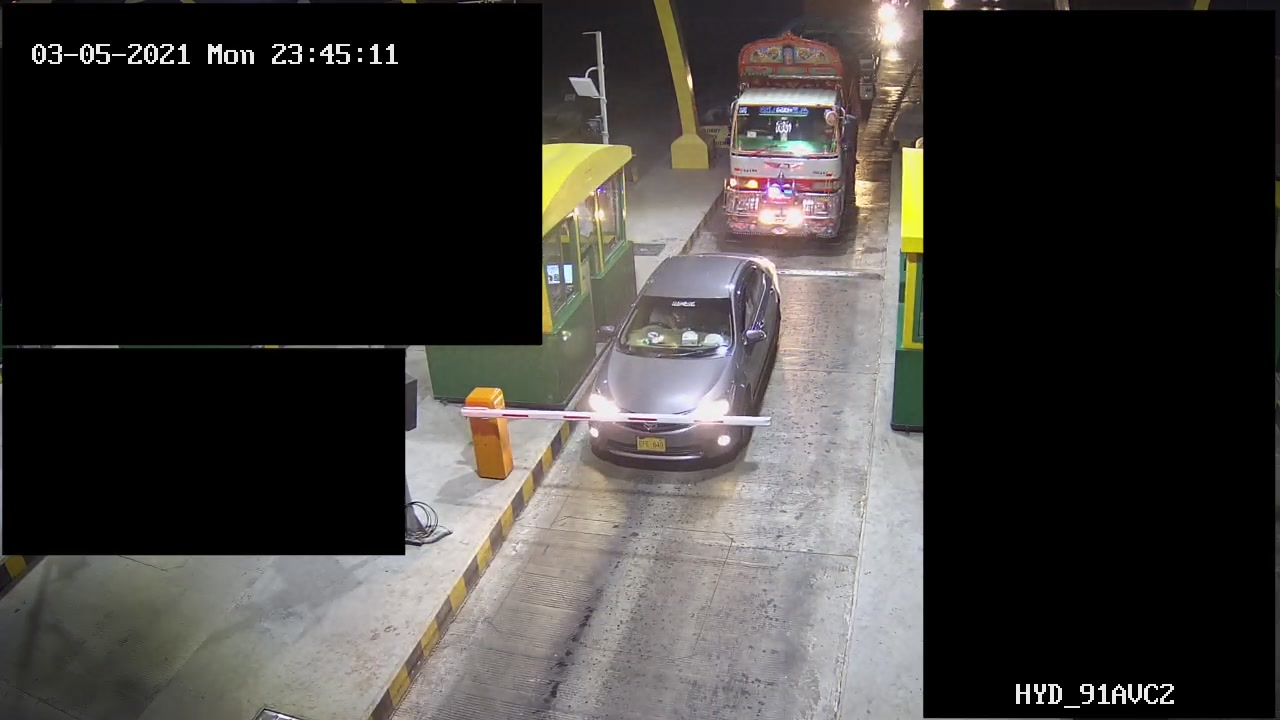F1: (582, 249, 793, 473)
